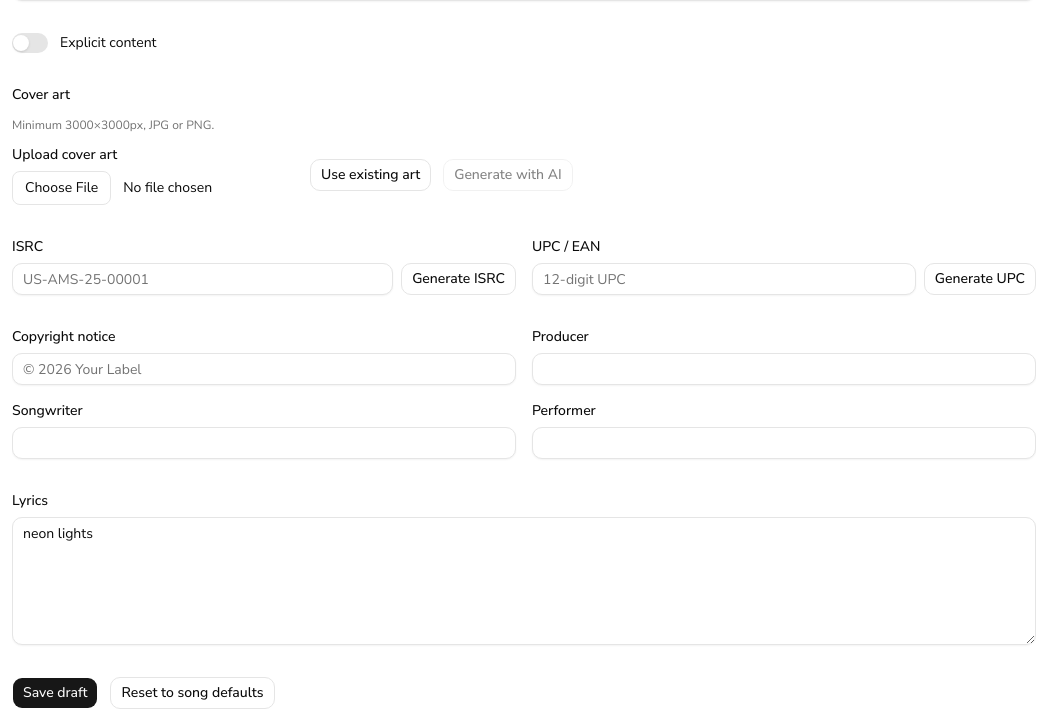
Test case: DistributionForm › surfaces a failure (not a crash) when storage can't save the draft
(page scrolled)
Click the button "Save draft".
click(55, 693)  # box [12,677,98,708]
(page scrolled)
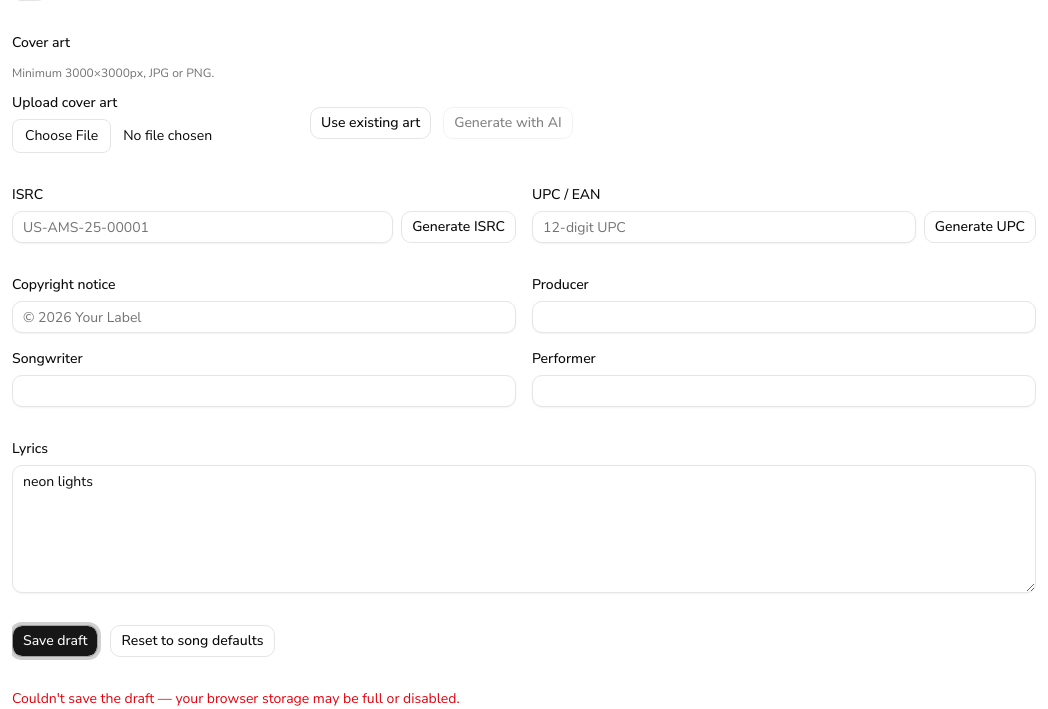
Now the message shows "storage may be full", box [12,689,460,708]
